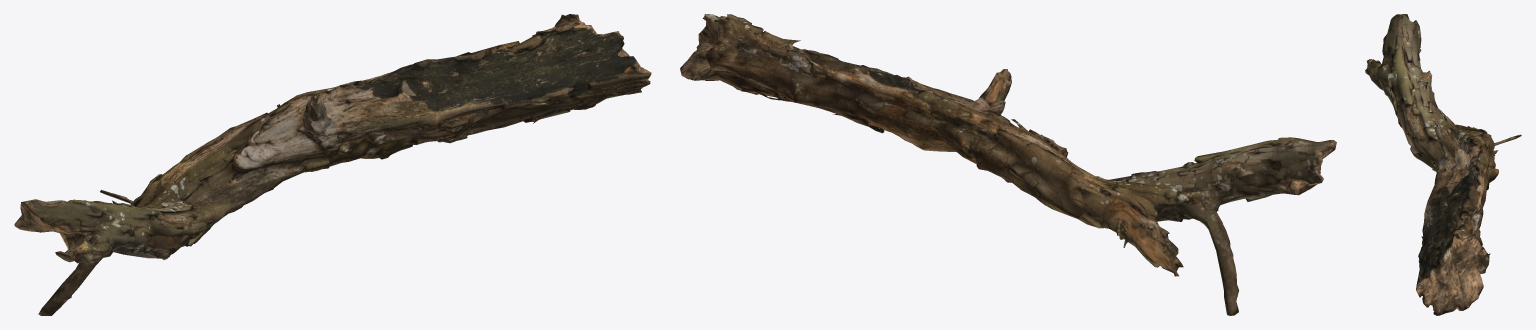
Rendered from dead_tree_trunk_02.glb.
3 views of the same model, side by side, from view 1: azimuth 30°, elevation 25°; view 2: azimuth 150°, elevation 25°; view 3: azimuth 270°, elevation 25° (orthographic). The views are drawn at different scales.
Parts seen in each view (by area): view 1: dead_tree_trunk_02; view 2: dead_tree_trunk_02; view 3: dead_tree_trunk_02.
Part boxes in pixels (x1,y1,x2,y2): dead_tree_trunk_02: [14, 14, 651, 315]; dead_tree_trunk_02: [680, 14, 1336, 315]; dead_tree_trunk_02: [1365, 14, 1521, 315].
Bounding box in the file's own units: 4.05 × 1.05 × 1.05.
1 material, 1 textured.
